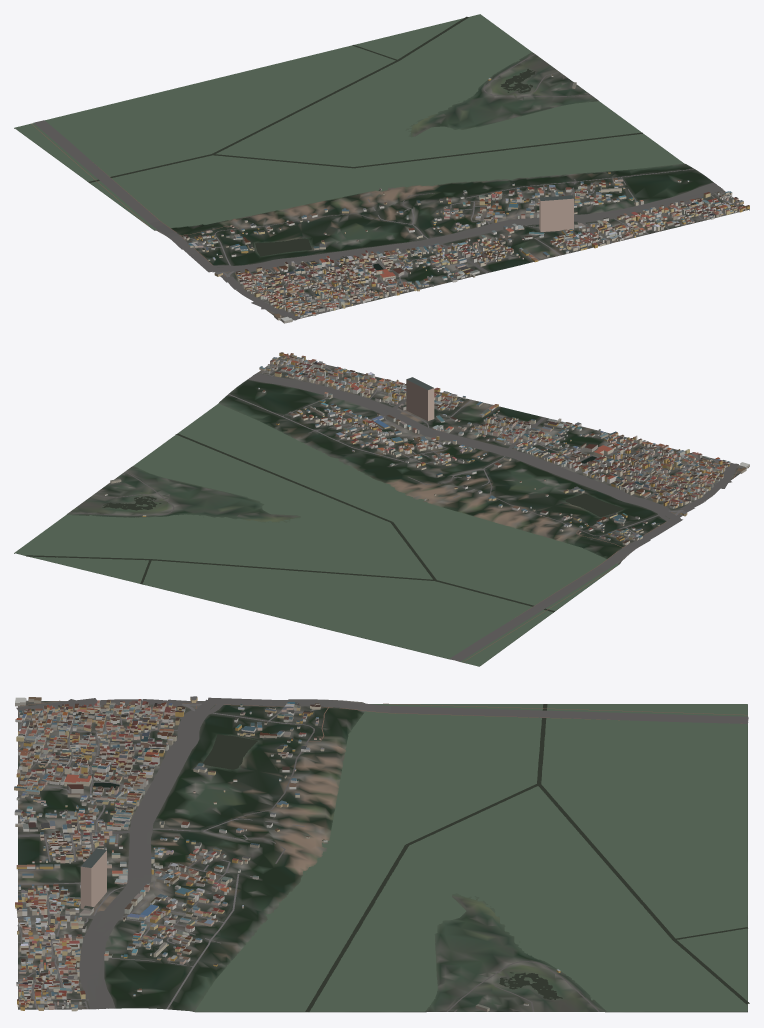
3 renders of one model, top to bottom at view 1: azimuth 30°, elevation 25°; view 2: azimuth 150°, elevation 25°; view 3: azimuth 270°, elevation 25°, orthographic. The views are drawn at different scales.
Parts seen in each view (by area): view 1: water, ground, buildings, roads; view 2: water, ground, buildings, roads; view 3: water, ground, buildings, roads.
Part boxes in pixels (x1=…): water: x1=15, y1=14, x2=683, y2=270; ground: x1=14, y1=17, x2=749, y2=321; buildings: x1=183, y1=74, x2=749, y2=323; roads: x1=31, y1=54, x2=746, y2=320; water: x1=15, y1=403, x2=624, y2=666; ground: x1=14, y1=355, x2=748, y2=666; buildings: x1=104, y1=352, x2=749, y2=545; roads: x1=69, y1=359, x2=739, y2=661; water: x1=93, y1=704, x2=749, y2=1012; ground: x1=18, y1=699, x2=747, y2=1012; buildings: x1=14, y1=696, x2=560, y2=1011; roads: x1=16, y1=697, x2=748, y2=1011.
Bounding box in the file's own units: 1421 × 98.43 × 1413.
